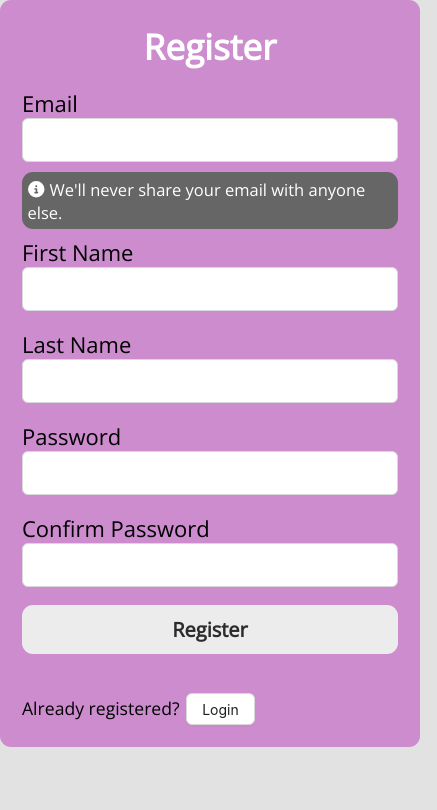
Register › handles form submission with password length less than 8 characters
This screenshot has width=437, height=810.
Step 1. Type "Pass123" into the password field labelled "Password" → (210, 473), box [22, 451, 398, 495]
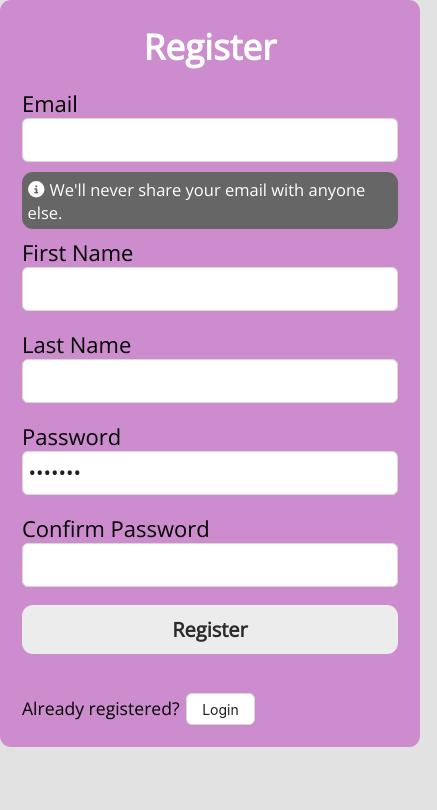
Step 2. Type "Pass123" into the password field labelled "Confirm Password" → (210, 565), box [22, 543, 398, 587]
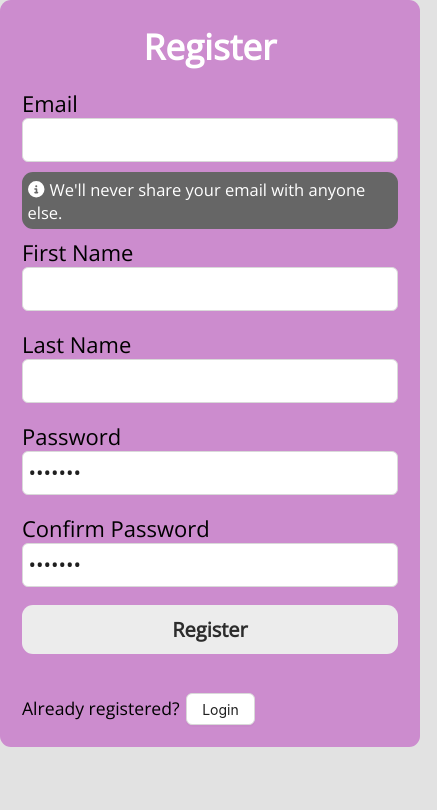
Step 3. Submit the form from the button "Register", box [22, 605, 398, 654]
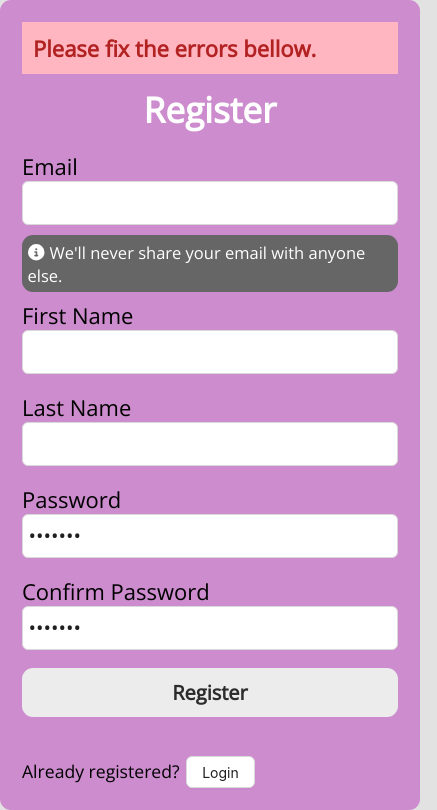
Check: the text "Please fix the errors bellow." is shown, box [22, 22, 398, 74]
